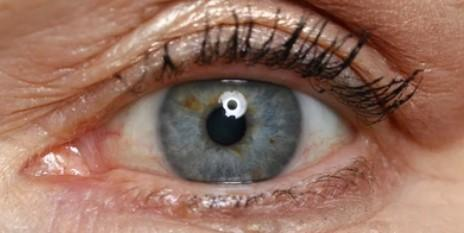eye: (161, 80, 301, 186)
